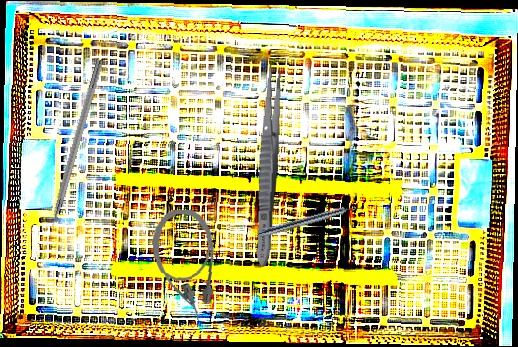Cannula: (150, 208, 219, 323)
Dressing Forceps: (252, 60, 285, 267)
Handpiece: (256, 201, 363, 241)
Hook Surgical: (41, 58, 105, 248)
